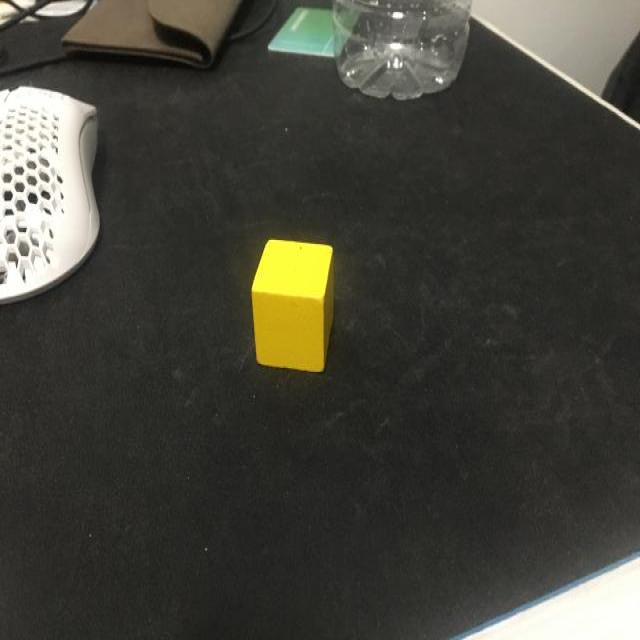yellow: (251, 240, 334, 373)
